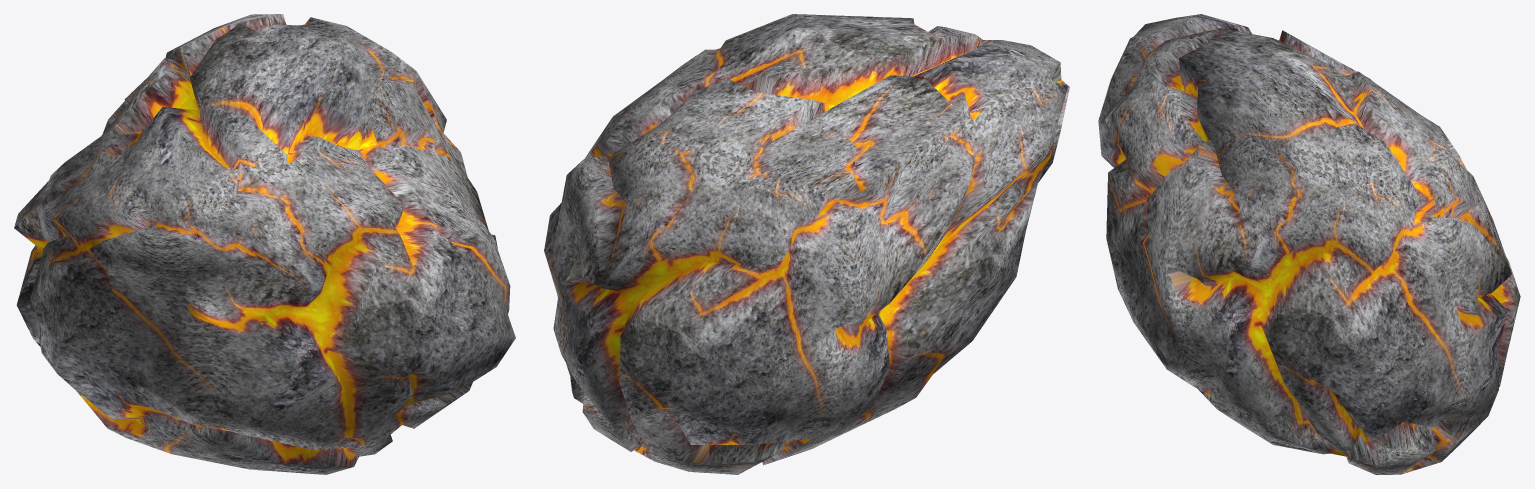
Rendered from Asteroid_07_L1.FBX.
The picture shows the model from 3 angles, left to right: view 1: azimuth 30°, elevation 25°; view 2: azimuth 150°, elevation 25°; view 3: azimuth 270°, elevation 25°; orthographic projection. The views are drawn at different scales.
Parts seen in each view (by area): view 1: Asteroid; view 2: Asteroid; view 3: Asteroid.
Part boxes in pixels (x1,y1,x2,y2): Asteroid: (14, 14, 515, 474); Asteroid: (544, 14, 1069, 474); Asteroid: (1098, 14, 1520, 474).
Size of the model in its own units: 2.97 by 2.73 by 2.81.
